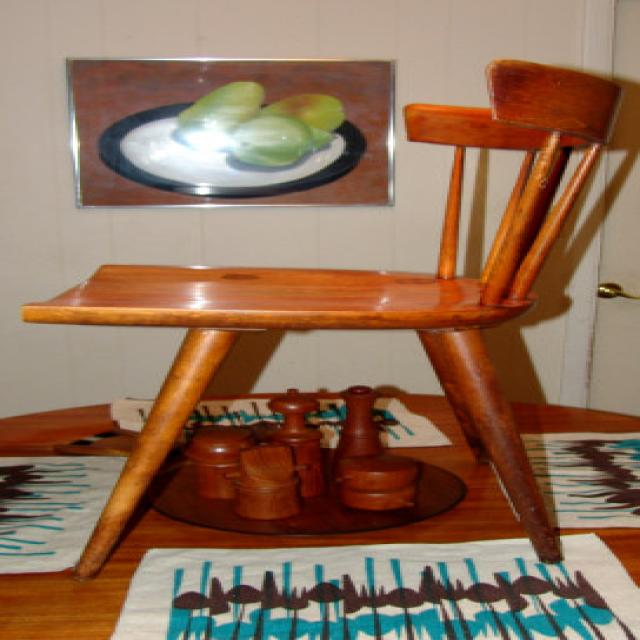chair: (19, 58, 623, 578)
